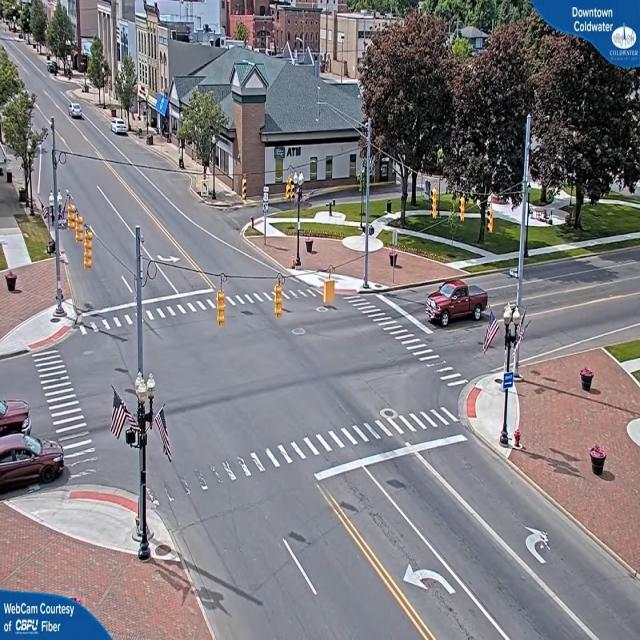car: (0, 432, 63, 489), (427, 278, 487, 326), (3, 396, 33, 436), (112, 121, 130, 138), (69, 103, 83, 121)
